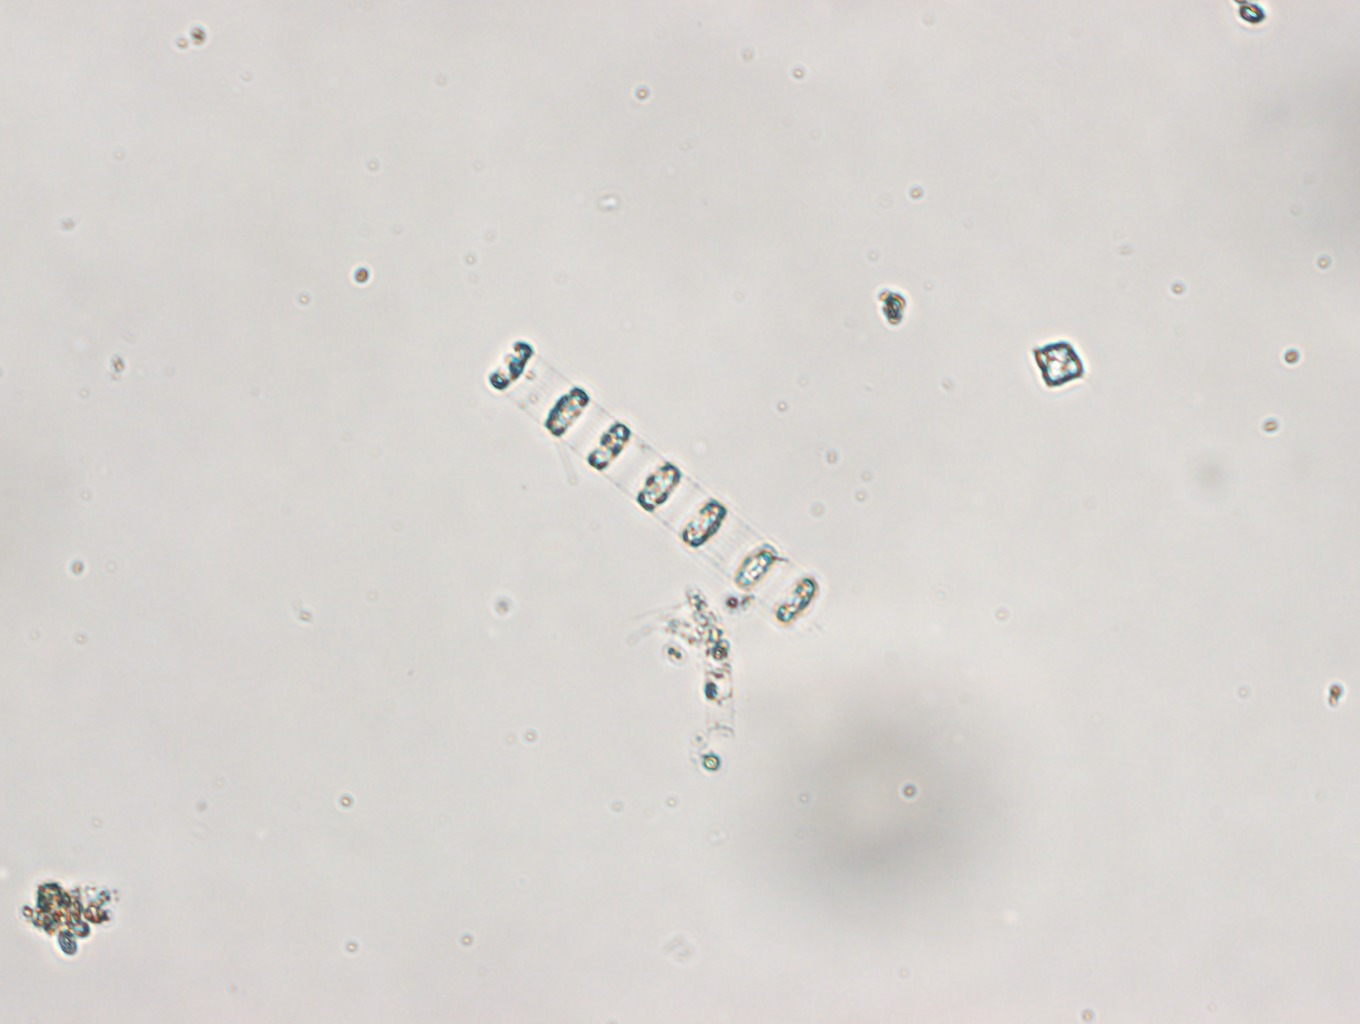skeletonema: (482, 335, 829, 631)
